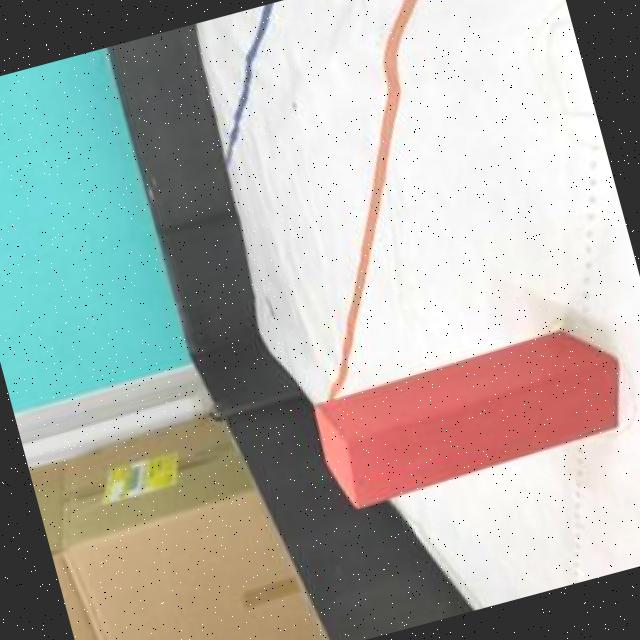redbox: (304, 312, 638, 514)
